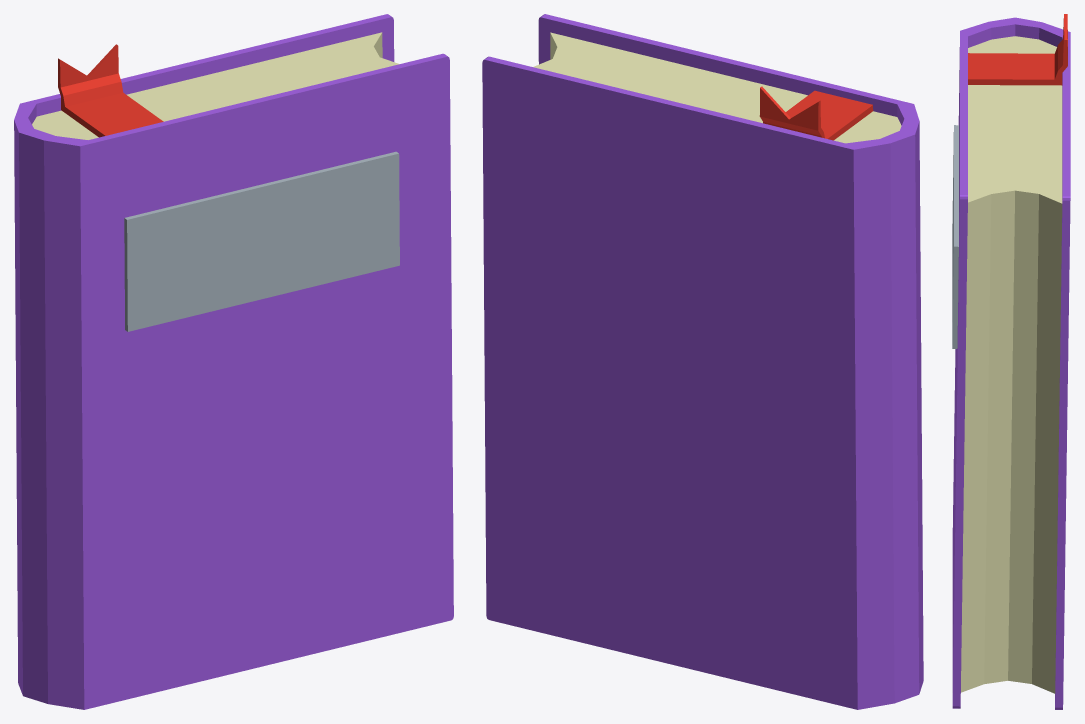
Rendered from book_bkMark_01.fbx.
3 views of the same model, side by side, from view 1: azimuth 30°, elevation 25°; view 2: azimuth 150°, elevation 25°; view 3: azimuth 270°, elevation 25° (orthographic). The views are drawn at different scales.
Parts seen in each view (by area): view 1: book_bookMark_01; view 2: book_bookMark_01; view 3: book_bookMark_01.
Boxes of the visible parts, box(x1,y1,x2,y2) form: book_bookMark_01: box(14, 14, 453, 709); book_bookMark_01: box(482, 14, 923, 709); book_bookMark_01: box(952, 14, 1070, 709).
Size of the model in its own units: 22.44 by 32.01 by 6.25.
